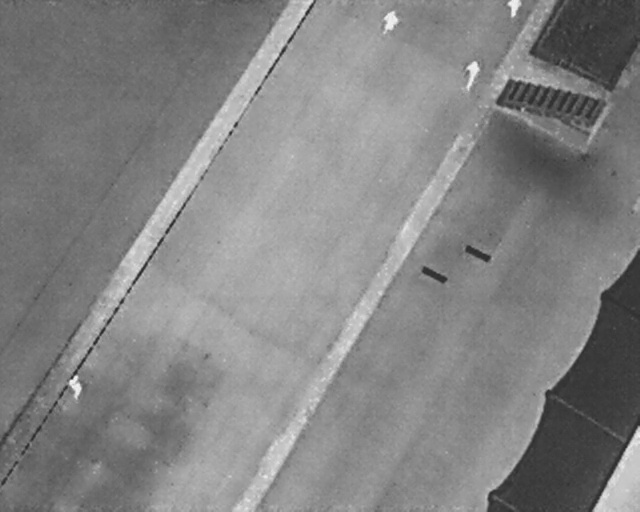Person: (376, 5, 403, 37), (460, 56, 484, 92), (67, 374, 83, 400), (506, 0, 523, 18)
